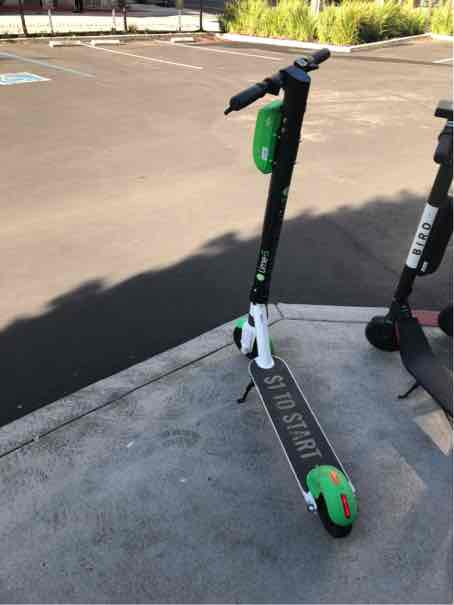scooter: (224, 42, 372, 543)
